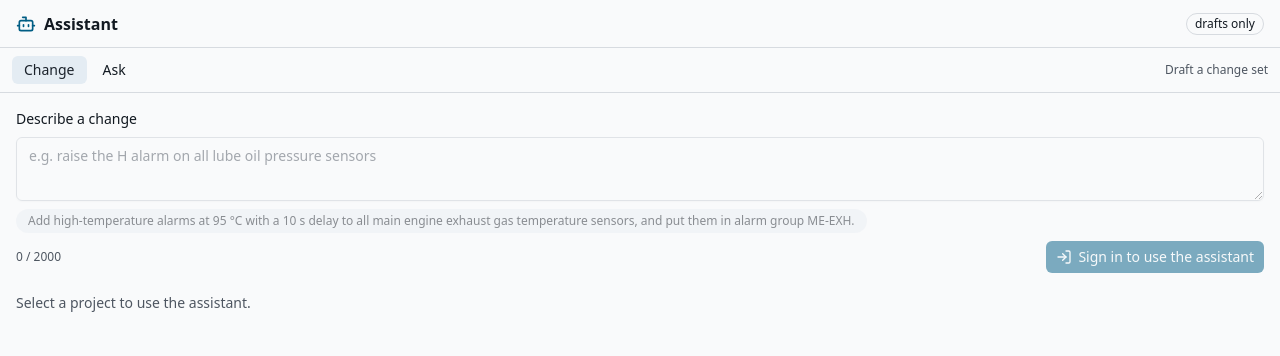
Test case: AssistantPage › allows switching to Ask mode to query maritime documentation
Click the tab "Ask". click: (114,70)
box: [90,56,138,84]
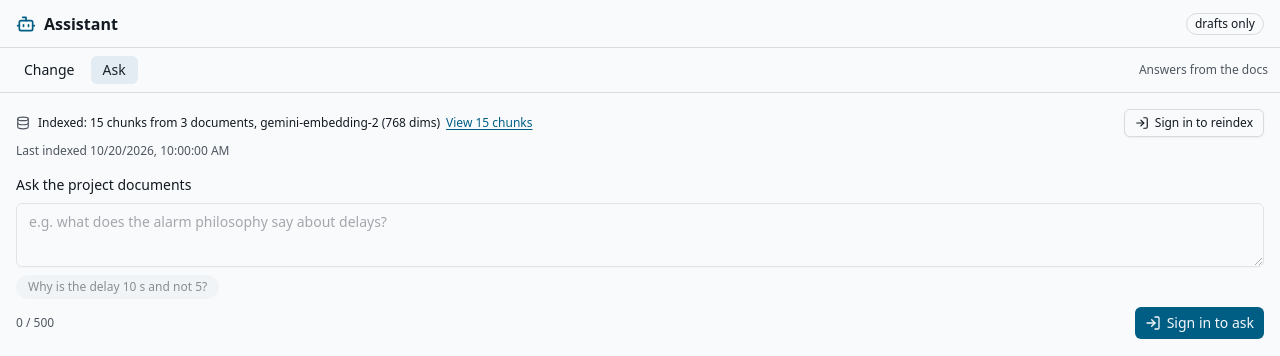
Result: the text box with placeholder "e.g. what does the alarm philosophy say about delays?" is shown at [16,203,1264,267]
Result: the text "Answers from the docs" is shown at [1139,62,1268,78]
